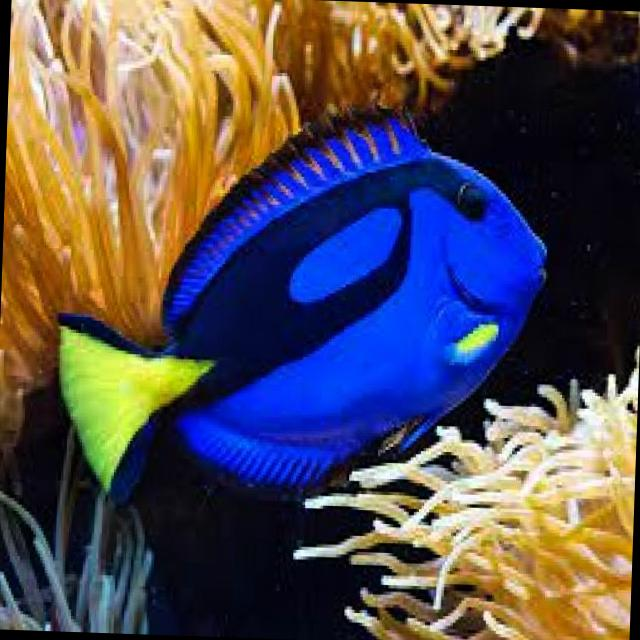TangFish: (48, 92, 553, 510)
